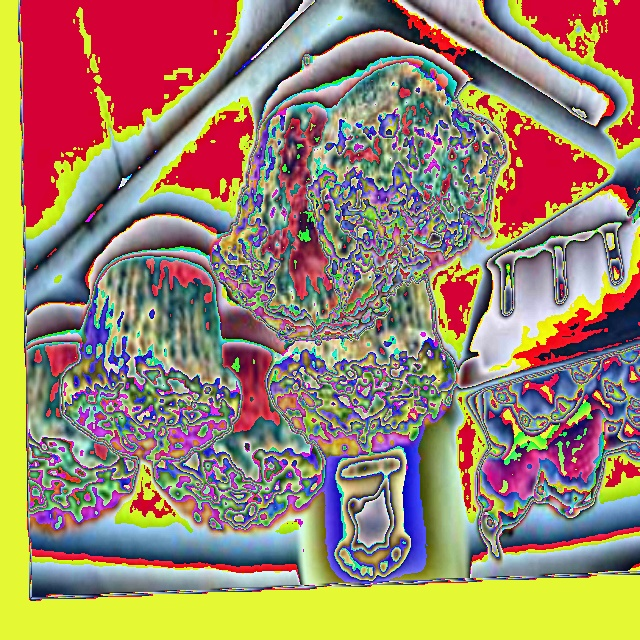background: (27, 64, 507, 539), (163, 216, 639, 562)
